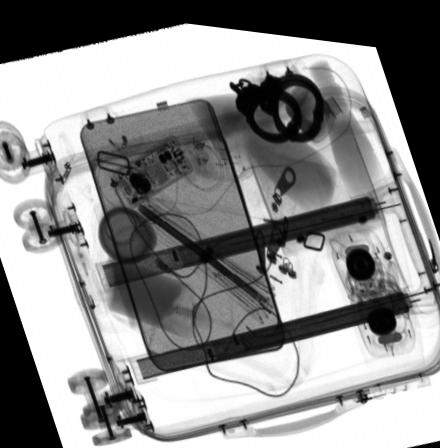HandCuffs: (225, 57, 322, 137)
